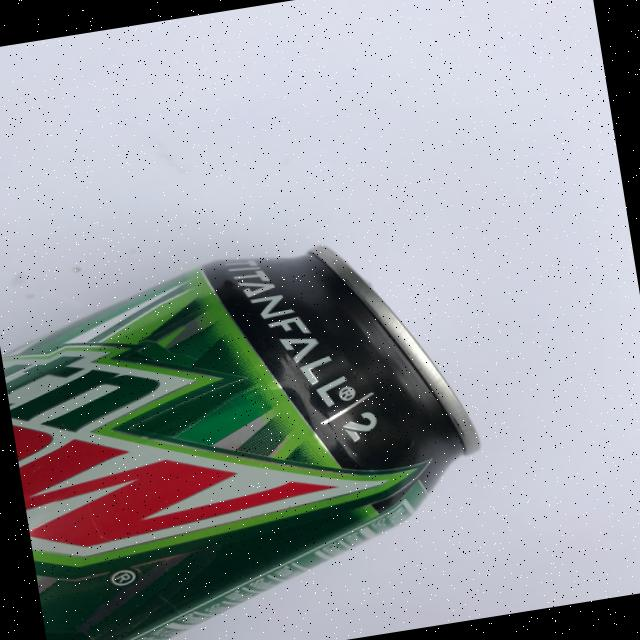metal: (0, 222, 508, 640)
